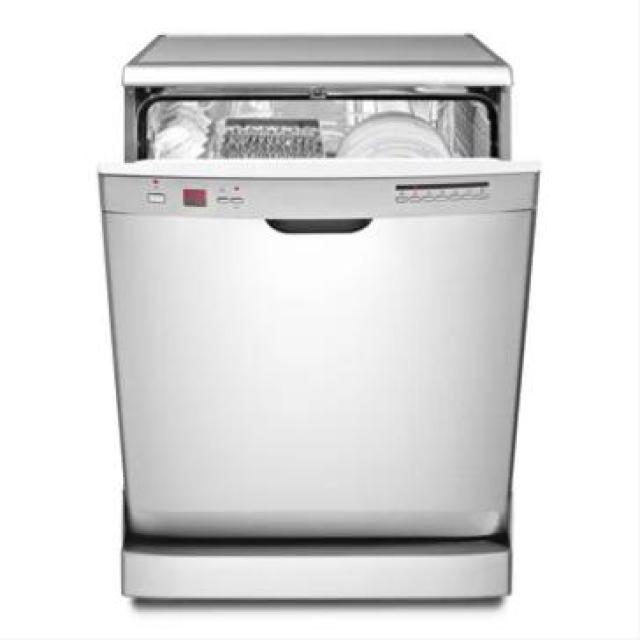dishwasher: (98, 30, 540, 608)
